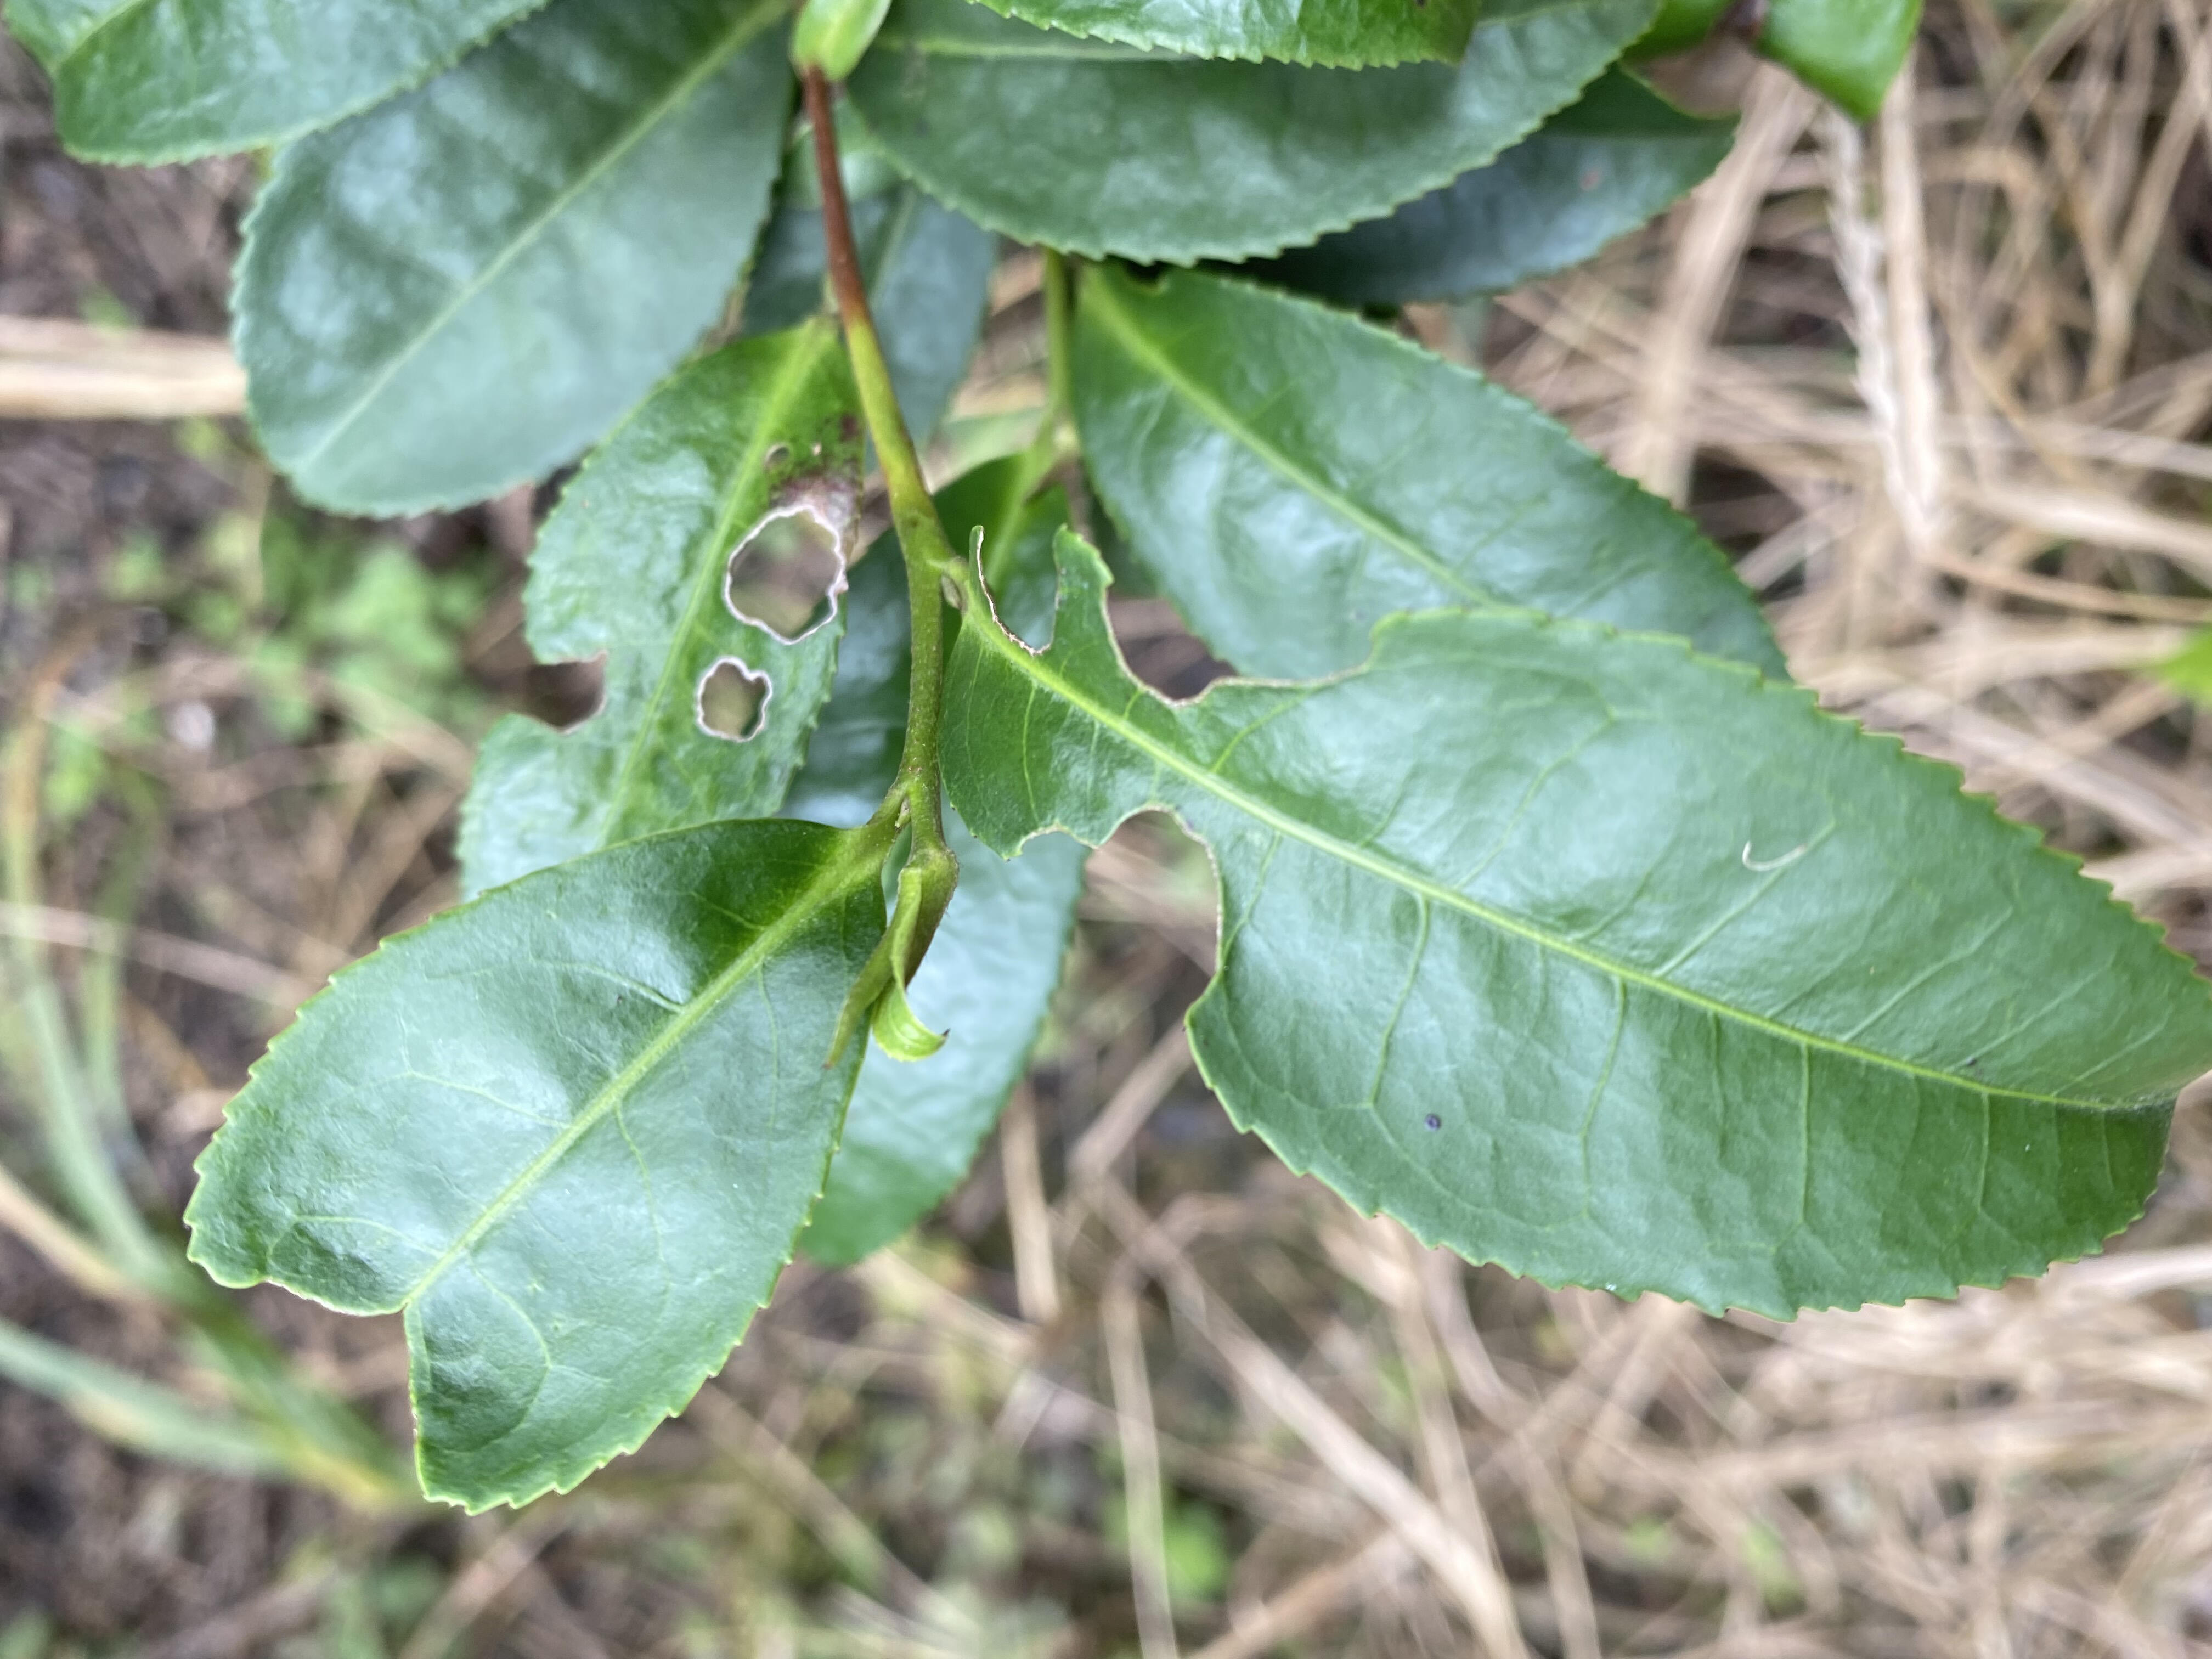chihuo_high: (932, 521, 2210, 1330), (178, 816, 899, 1520), (455, 315, 862, 901)
healthy: (228, 3, 799, 519)
